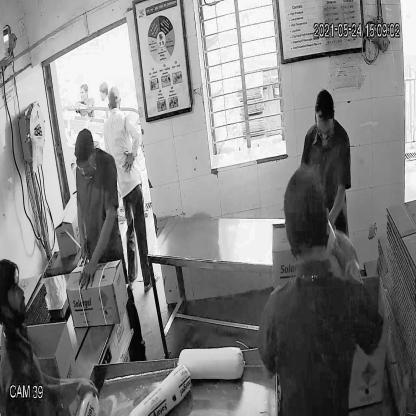goggles: (74, 151, 95, 174)
